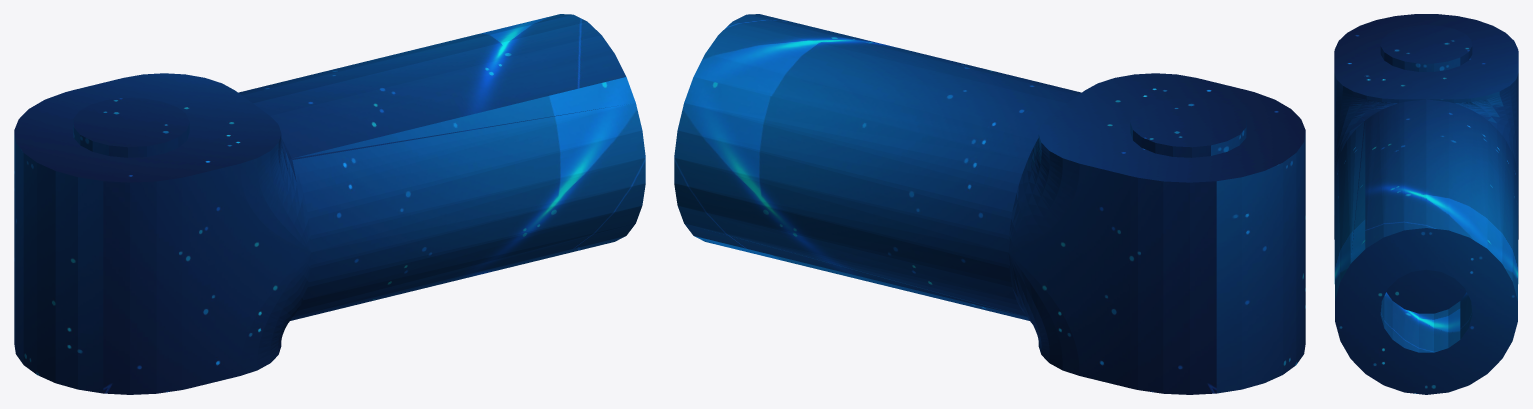
3 views of the same model, side by side, from view 1: azimuth 30°, elevation 25°; view 2: azimuth 150°, elevation 25°; view 3: azimuth 270°, elevation 25° (orthographic). The views are drawn at different scales.
Parts seen in each view (by area): view 1: Link4; view 2: Link4; view 3: Link4.
Boxes of the visible parts, x1,y1,x2,y2 form: Link4: (14,14,645,394); Link4: (674,14,1305,394); Link4: (1334,14,1518,394).
Bounding box in the file's own units: 0.5493 × 0.2 × 0.22.
1 material, 1 textured.
